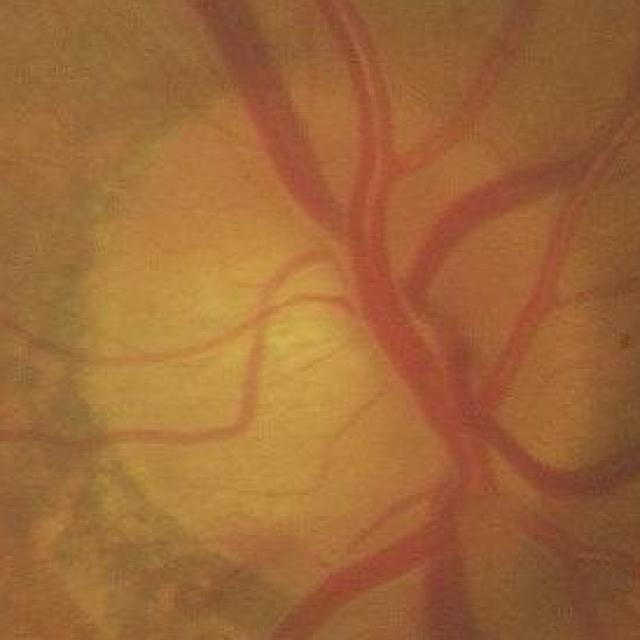OC: (178, 234, 368, 424)
OD: (89, 73, 613, 567)
